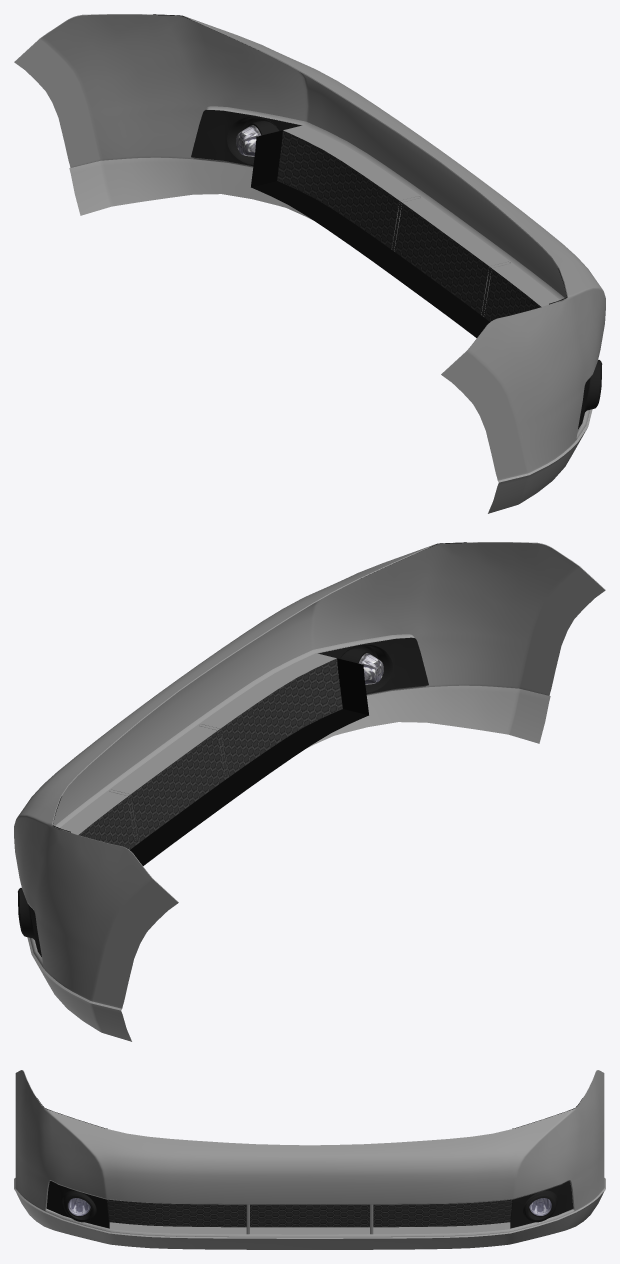
3 renders of one model, top to bottom at view 1: azimuth 30°, elevation 25°; view 2: azimuth 150°, elevation 25°; view 3: azimuth 270°, elevation 25°, orthographic. The views are drawn at different scales.
Visible parts, largest first — view 1: P159_021G_C_P159_021G_C_2_DaS, P159_021G_C_1_D_P159_021G_C, P159_021G_C_P159_021G_C_10_D, P159_021G_C_P159_021G_C_2_DaS_E, P159_021G_C_P159_021G_C_3_D; view 2: P159_021G_C_P159_021G_C_2_DaS, P159_021G_C_1_D_P159_021G_C, P159_021G_C_P159_021G_C_10_D, P159_021G_C_P159_021G_C_2_DaS_E, P159_021G_C_P159_021G_C_3_D; view 3: P159_021G_C_P159_021G_C_2_DaS, P159_021G_C_1_D_P159_021G_C, P159_021G_C_P159_021G_C_2_DaS_E, P159_021G_C_P159_021G_C_3_D, P159_021G_C_P159_021G_C_4_D, P159_021G_C_P159_021G_C_5_N, P159_021G_C_P159_021G_C_6_N, P159_021G_C_P159_021G_C_7_DTaSI, P159_021G_C_P159_021G_C_8_DTaSI.
Boxes of the visible parts, box(x1,y1,x2,y2) form: P159_021G_C_P159_021G_C_2_DaS: box(14, 14, 605, 513); P159_021G_C_1_D_P159_021G_C: box(277, 130, 541, 321); P159_021G_C_P159_021G_C_10_D: box(251, 130, 489, 337); P159_021G_C_P159_021G_C_2_DaS_E: box(14, 14, 592, 482); P159_021G_C_P159_021G_C_3_D: box(191, 110, 601, 429); P159_021G_C_P159_021G_C_2_DaS: box(14, 542, 605, 1041); P159_021G_C_1_D_P159_021G_C: box(78, 658, 342, 849); P159_021G_C_P159_021G_C_10_D: box(130, 658, 368, 865); P159_021G_C_P159_021G_C_2_DaS_E: box(27, 542, 605, 1010); P159_021G_C_P159_021G_C_3_D: box(18, 637, 428, 956); P159_021G_C_P159_021G_C_2_DaS: box(15, 1070, 604, 1249); P159_021G_C_1_D_P159_021G_C: box(107, 1199, 512, 1227); P159_021G_C_P159_021G_C_2_DaS_E: box(14, 1070, 605, 1238); P159_021G_C_P159_021G_C_3_D: box(46, 1181, 573, 1228); P159_021G_C_P159_021G_C_4_D: box(64, 1195, 555, 1221); P159_021G_C_P159_021G_C_5_N: box(529, 1198, 551, 1215); P159_021G_C_P159_021G_C_6_N: box(68, 1198, 90, 1215); P159_021G_C_P159_021G_C_7_DTaSI: box(68, 1198, 90, 1215); P159_021G_C_P159_021G_C_8_DTaSI: box(529, 1198, 551, 1215).
Size of the model in its own units: 74.72 by 57.41 by 227.
